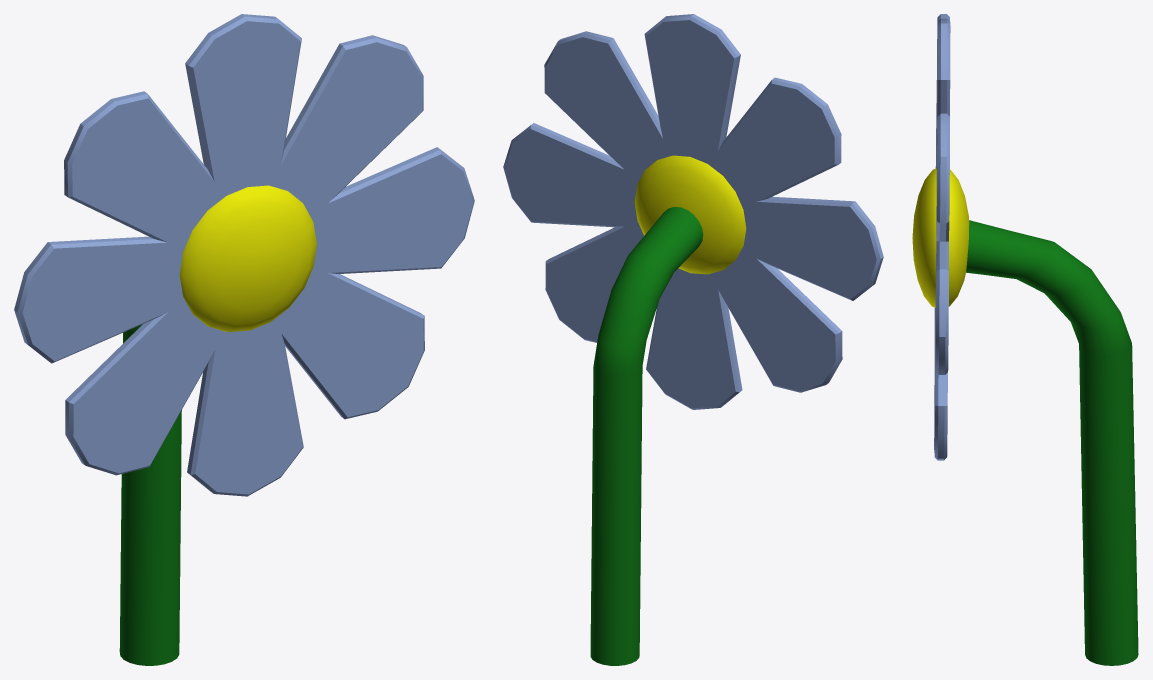
Rendered from flower3.fbx.
The picture shows the model from 3 angles, left to right: view 1: azimuth 30°, elevation 25°; view 2: azimuth 150°, elevation 25°; view 3: azimuth 270°, elevation 25°; orthographic projection. The views are drawn at different scales.
Visible parts, largest first — view 1: pCube22; view 2: pCube22; view 3: pCube22.
Part boxes in pixels (x1=…): pCube22: x1=14, y1=14, x2=474, y2=665; pCube22: x1=503, y1=14, x2=883, y2=665; pCube22: x1=912, y1=14, x2=1138, y2=665.
Size of the model in its own units: 4.03 by 5.96 by 1.93.
